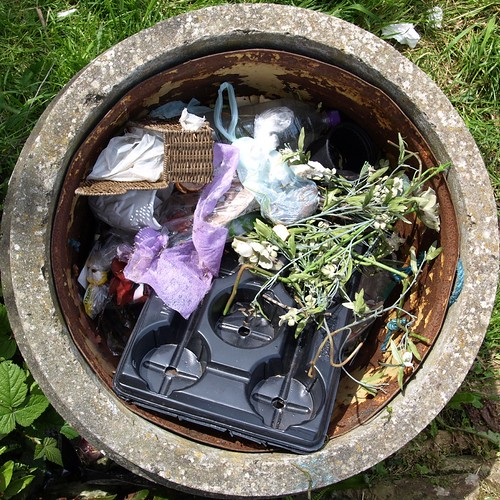trash: (31, 35, 457, 489)
